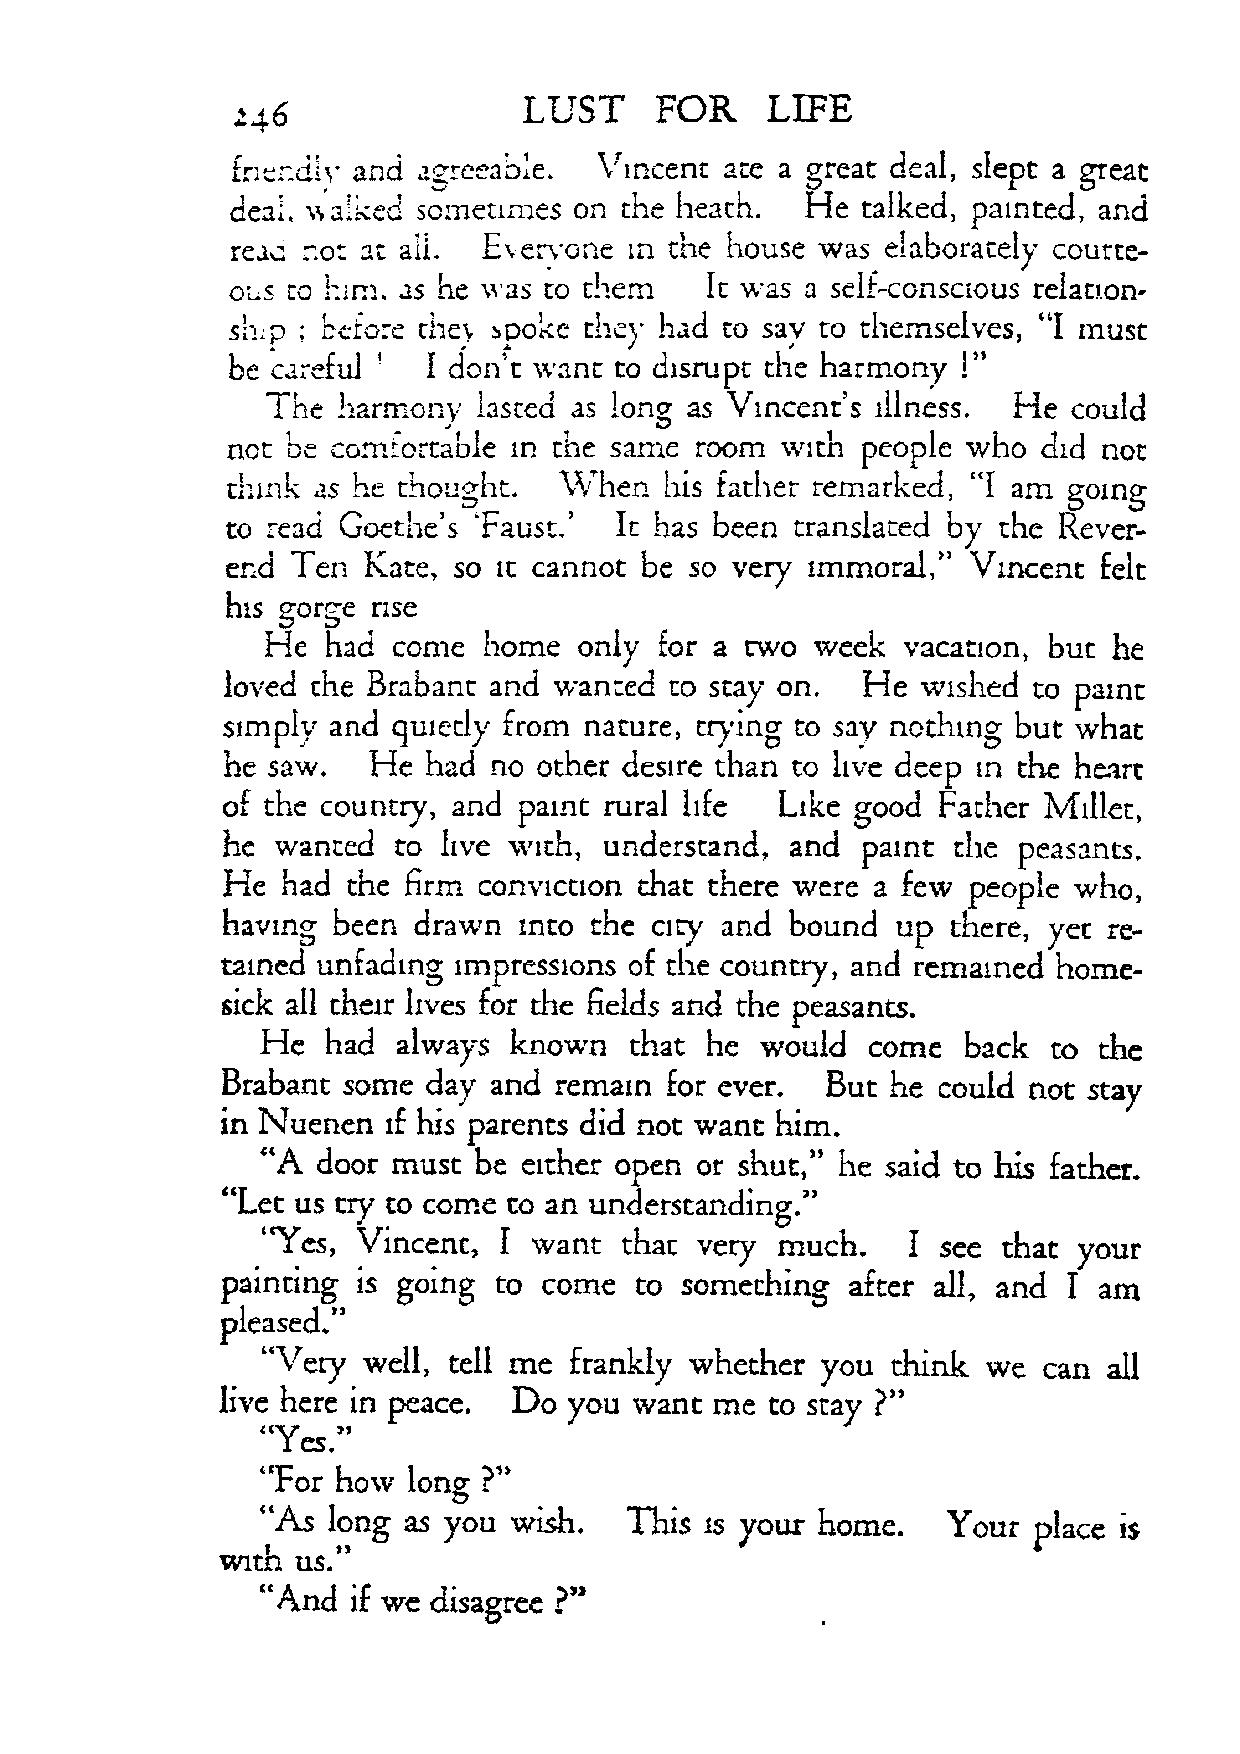content: (219, 148, 1153, 1627)
content_chapter: (514, 87, 854, 127)
content_pagenumber: (231, 98, 293, 132)
